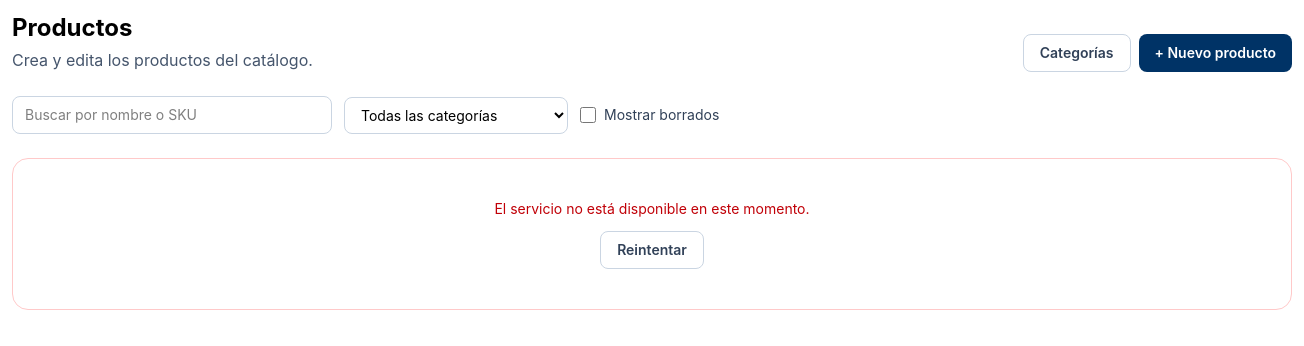
Test: Productos: listado y filtros › si la API falla muestra el error y permite reintentar
Expected: the text "El servicio no está disponible en este momento." is shown, [494,200,810,217]
Click the button "Reintentar" at (652, 250), box [600,231,704,269]
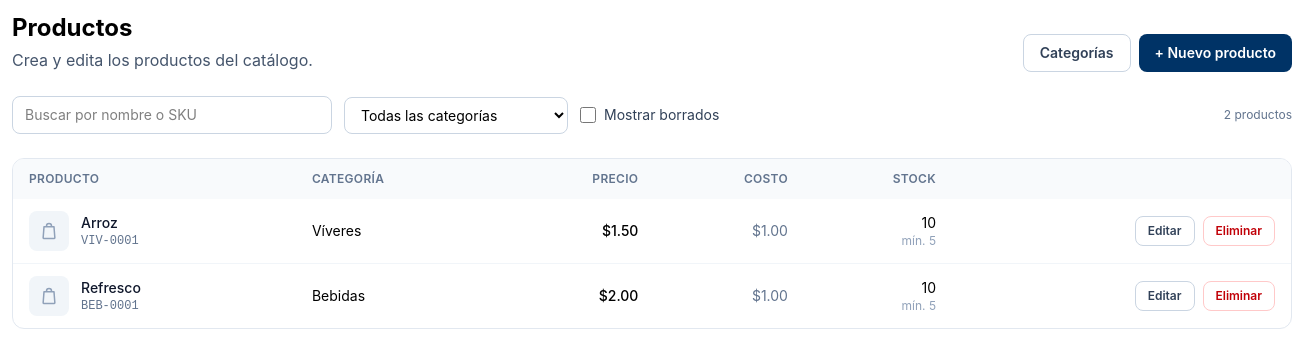
Result: the text "Arroz" is shown at [81,214,118,231]
